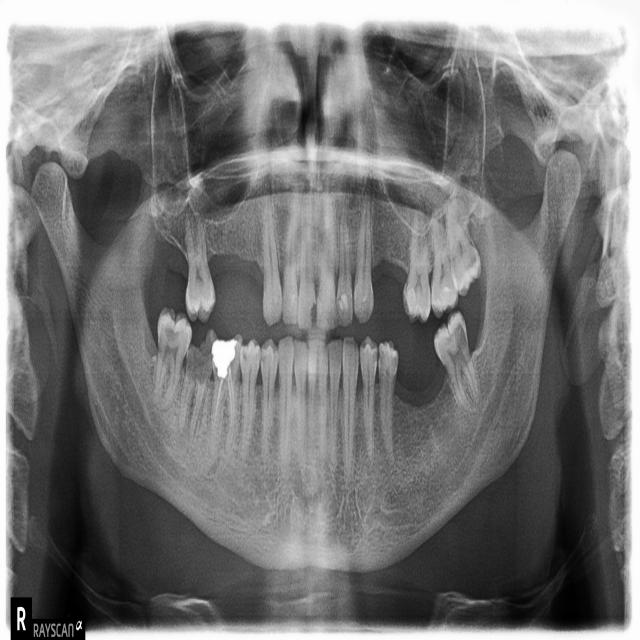mandibula: (30, 147, 583, 574)
